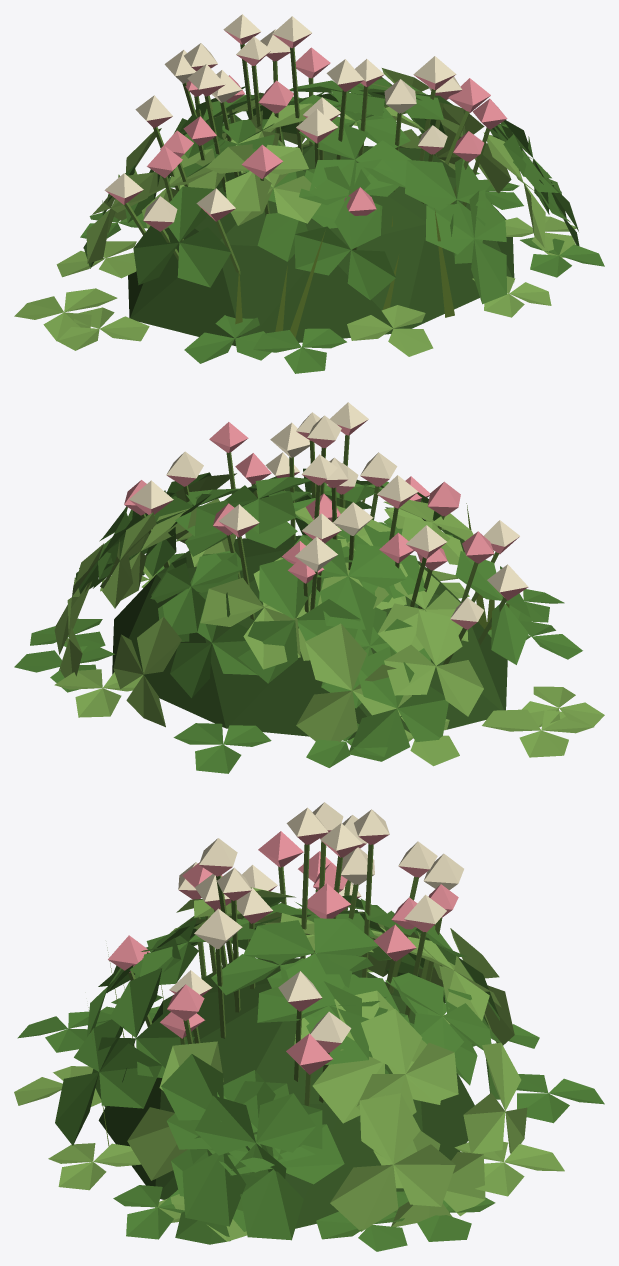
3 views of the same model, one above another, from view 1: azimuth 30°, elevation 25°; view 2: azimuth 150°, elevation 25°; view 3: azimuth 270°, elevation 25° (orthographic). The views are drawn at different scales.
Visible parts, largest first — view 1: trefoils_green, trefoils_pale, mound_core, heads_cream, heads_pink, flower_stems, grass; view 2: trefoils_green, trefoils_pale, mound_core, heads_cream, heads_pink, flower_stems; view 3: trefoils_green, trefoils_pale, mound_core, heads_cream, heads_pink, flower_stems.
Boxes of the visible parts, left/top/right/bottom form: trefoils_green: left=80, top=78, right=604, bottom=373; trefoils_pale: left=14, top=68, right=576, bottom=356; mound_core: left=128, top=144, right=514, bottom=346; heads_cream: left=105, top=14, right=462, bottom=222; heads_pink: left=105, top=30, right=507, bottom=231; flower_stems: left=124, top=44, right=489, bottom=274; grass: left=235, top=208, right=454, bottom=337; trefoils_green: left=14, top=468, right=582, bottom=773; trefoils_pale: left=54, top=473, right=604, bottom=766; mound_core: left=112, top=535, right=507, bottom=740; heads_cream: left=129, top=402, right=528, bottom=621; heads_pink: left=124, top=420, right=528, bottom=629; flower_stems: left=141, top=435, right=506, bottom=664; trefoils_green: left=17, top=895, right=604, bottom=1251; trefoils_pale: left=14, top=887, right=564, bottom=1241; mound_core: left=98, top=958, right=474, bottom=1228; heads_cream: left=169, top=802, right=463, bottom=1042; heads_pink: left=108, top=830, right=458, bottom=1074; flower_stems: left=128, top=841, right=442, bottom=1106.
Bounding box in the file's own units: 0.4153 × 0.1993 × 0.3535.
